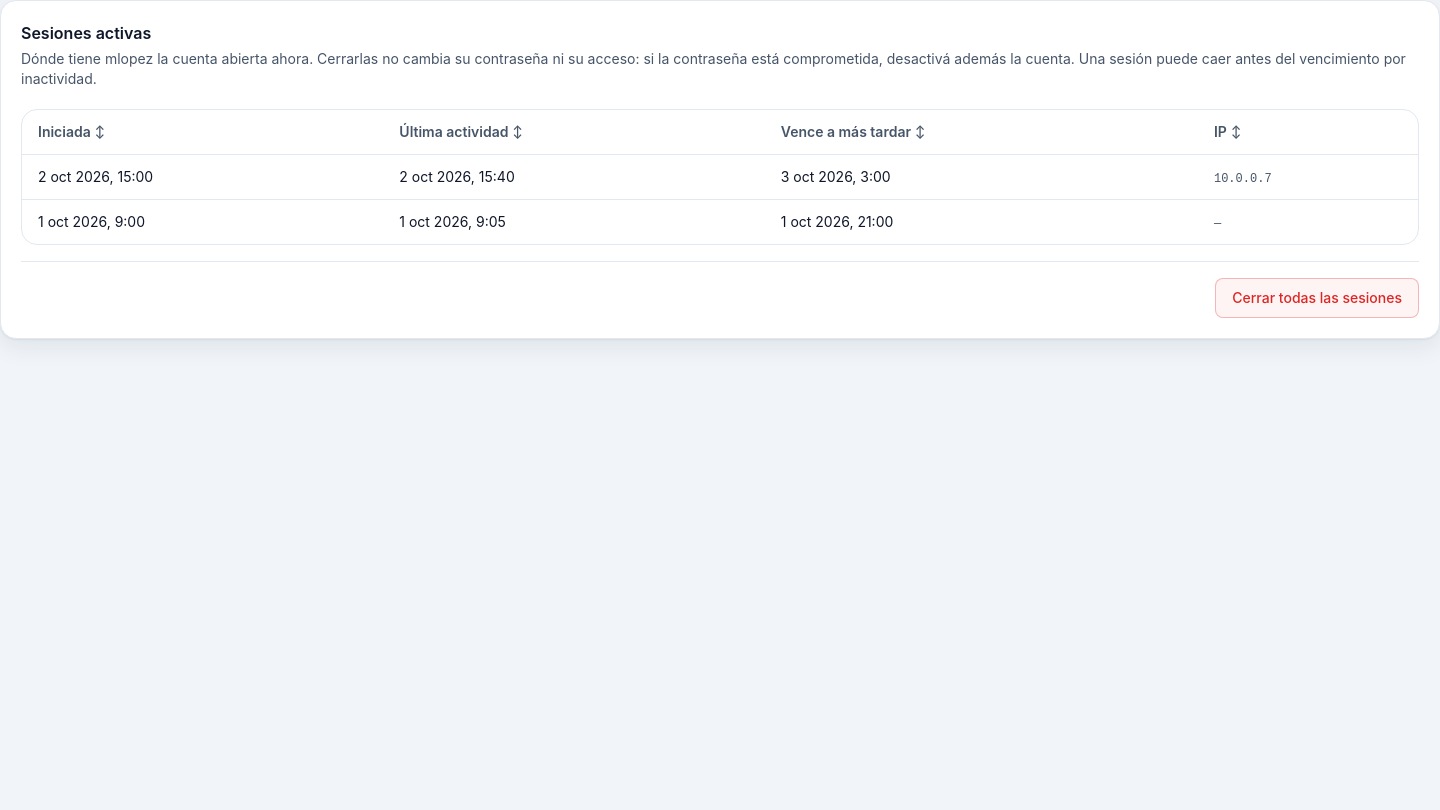
Scenario: GatewayUserSessionsSection › cierra todas tras confirmar, avisa la cantidad y refresca la lista
Click the button "Cerrar todas las sesiones".
click(1317, 298)  # box [1215,278,1419,318]
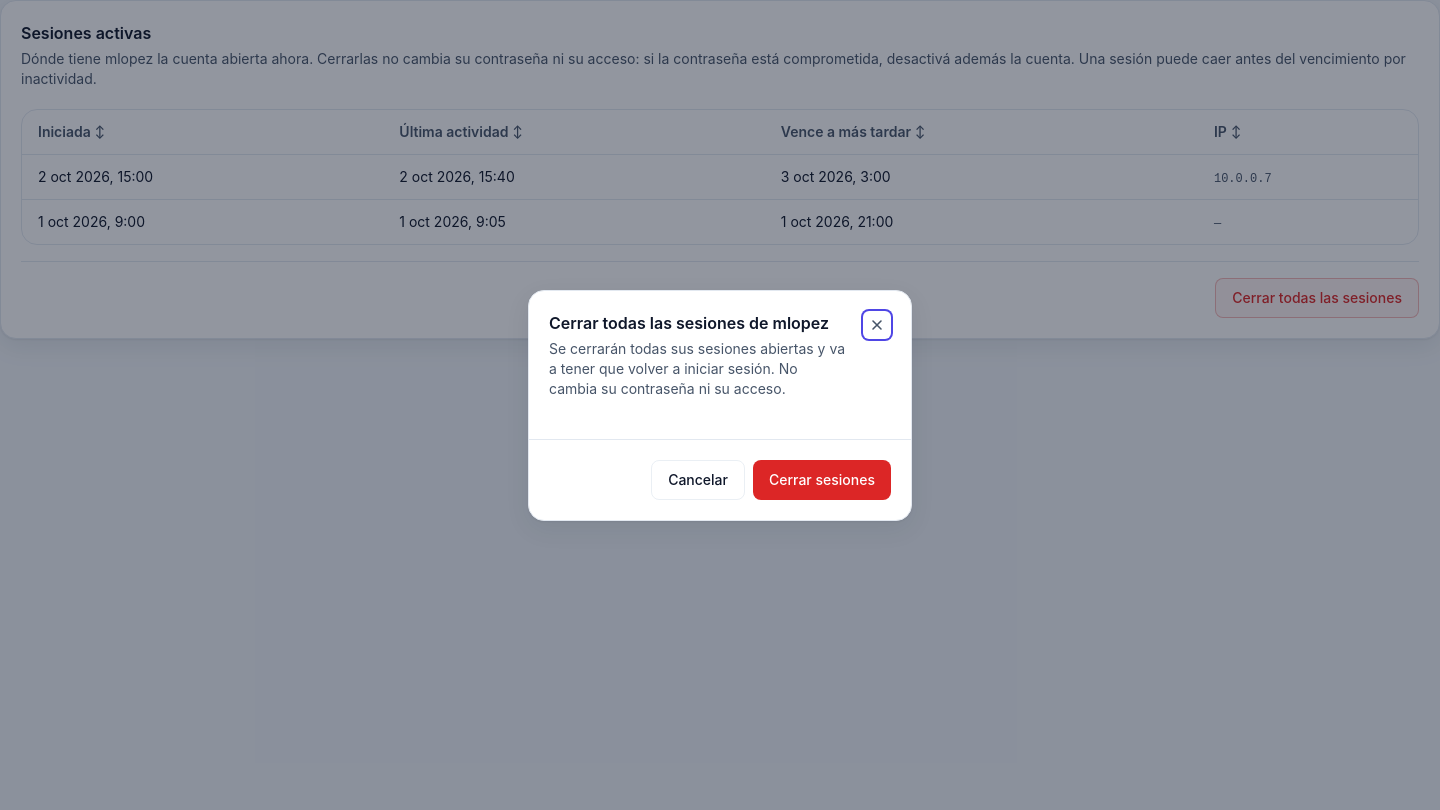
Result: the text "No cambia su contraseña ni su acceso" is shown at [549,340,845,396]
Click the button "Cerrar sesiones".
click(822, 480)  # box [753,460,891,500]
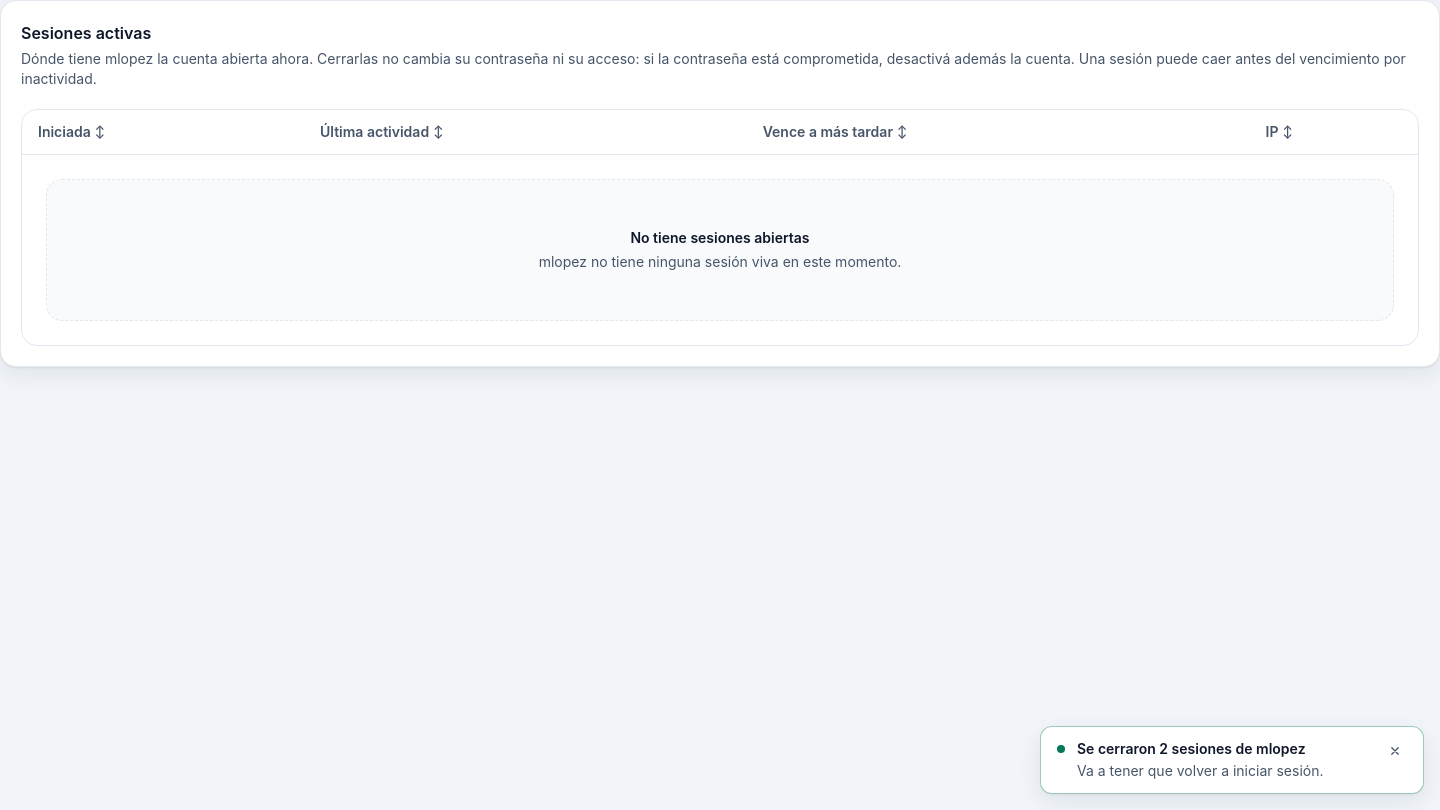
Result: the text "Se cerraron 2 sesiones de mlopez" is shown at [1077,740,1306,757]
Result: the dialog is gone
